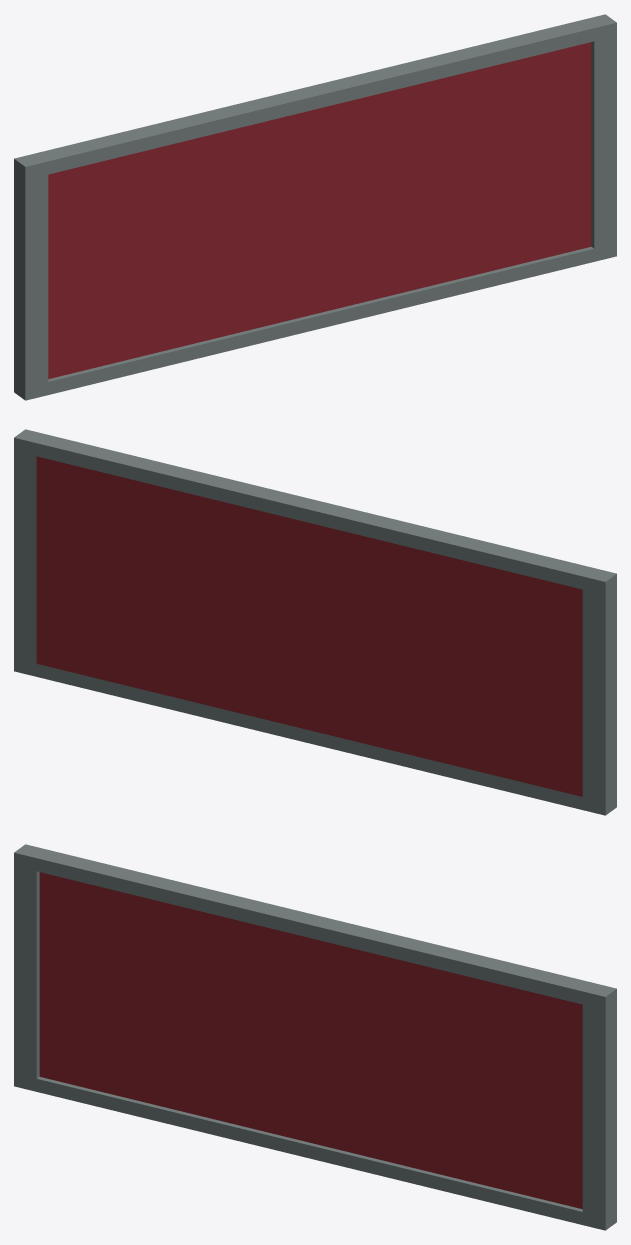
File: name.fbx
3 views of the same model, one above another, from view 1: azimuth 30°, elevation 25°; view 2: azimuth 150°, elevation 25°; view 3: azimuth 330°, elevation 25° (orthographic).
Visible parts, largest first — view 1: Cube.123, Cube.124; view 2: Cube.123, Cube.124; view 3: Cube.123, Cube.124.
Boxes of the visible parts, <box> form: Cube.123: <box>48,42,591,378</box>; Cube.124: <box>14,14,616,400</box>; Cube.123: <box>36,456,582,796</box>; Cube.124: <box>14,429,616,815</box>; Cube.123: <box>39,872,582,1208</box>; Cube.124: <box>14,844,616,1230</box>.
Bounding box in the file's own units: 228 × 86 × 7.65.
Materials: 2 (1 with a texture image).
